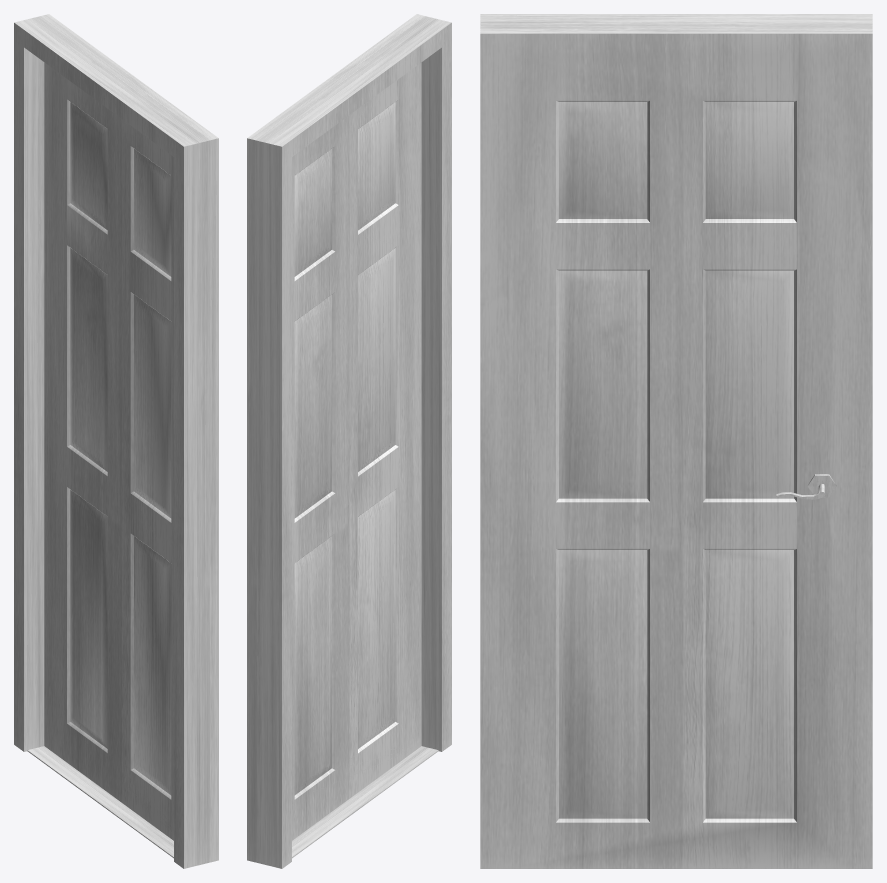
File: men01.FBX
3 renders of one model, left to right at view 1: azimuth 30°, elevation 25°; view 2: azimuth 150°, elevation 25°; view 3: azimuth 270°, elevation 25°, orthographic. The views are drawn at different scales.
Parts seen in each view (by area): view 1: men01; view 2: men01; view 3: men01.
Part boxes in pixels (x1=…): men01: x1=14, y1=14, x2=218, y2=868; men01: x1=247, y1=14, x2=451, y2=868; men01: x1=480, y1=14, x2=872, y2=868.
Size of the model in its own units: 154 by 2073 by 883.
